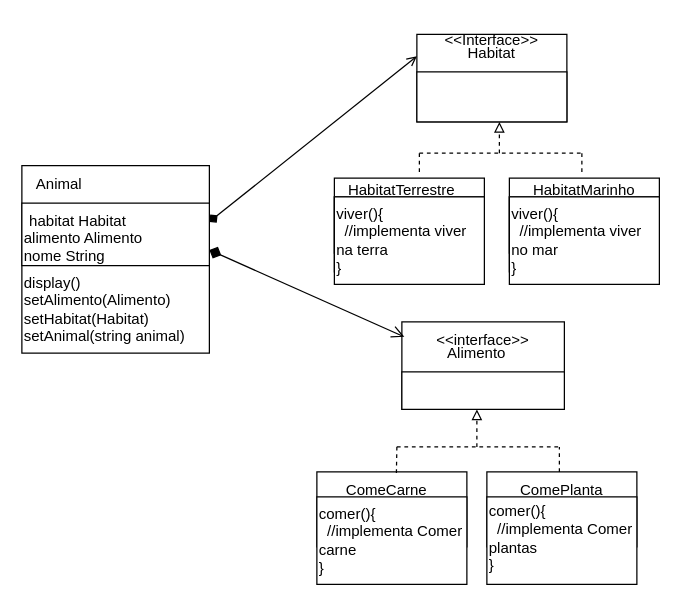
Image size: 681x606. Some labels were removed from this diagram. Each missing label, with the centre of its shape:
"comer()" belongs at pixel 482 390.
"viver()" belongs at pixel 491 96.
